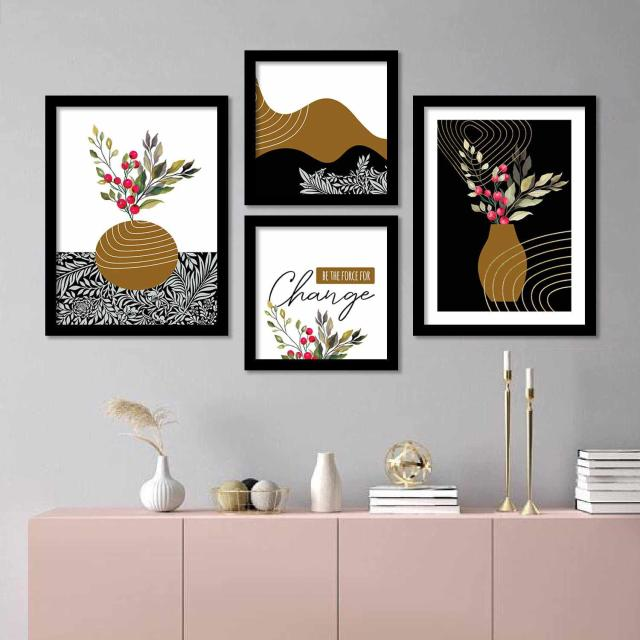painting: (45, 94, 228, 336), (412, 96, 595, 338), (245, 49, 399, 205), (243, 215, 396, 371)
